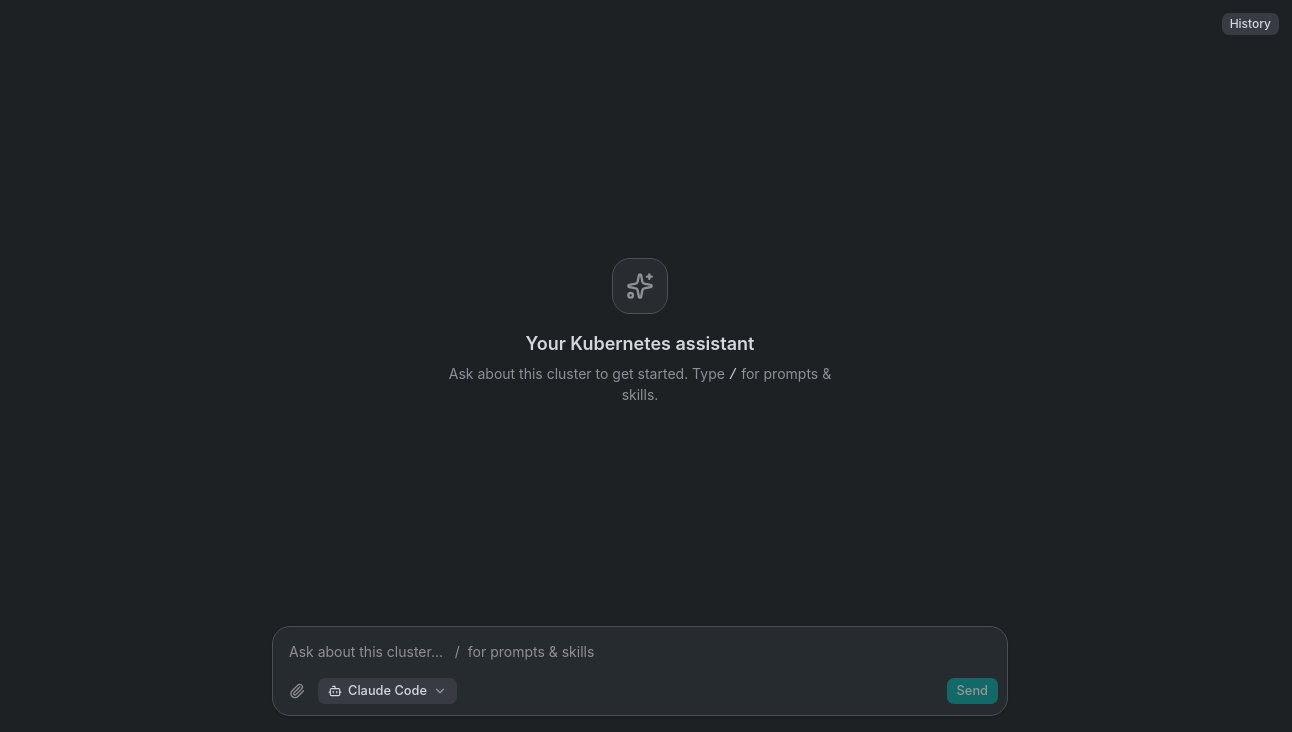
Test: AssistantConversation › never auto-selects a gated agent: Claude wins over an installed-but-gated Codex
The image size is (1292, 732).
Expected: the dropdown named "agent" shows "Claude", [317,677,458,705]
# The trigger shows the selected agent's label — Claude, never the gated Codex.
Type "hi" into the field with placeholder "Ask about this cluster… / for prompts & skills" at (640, 651), box [281,635,999,667]
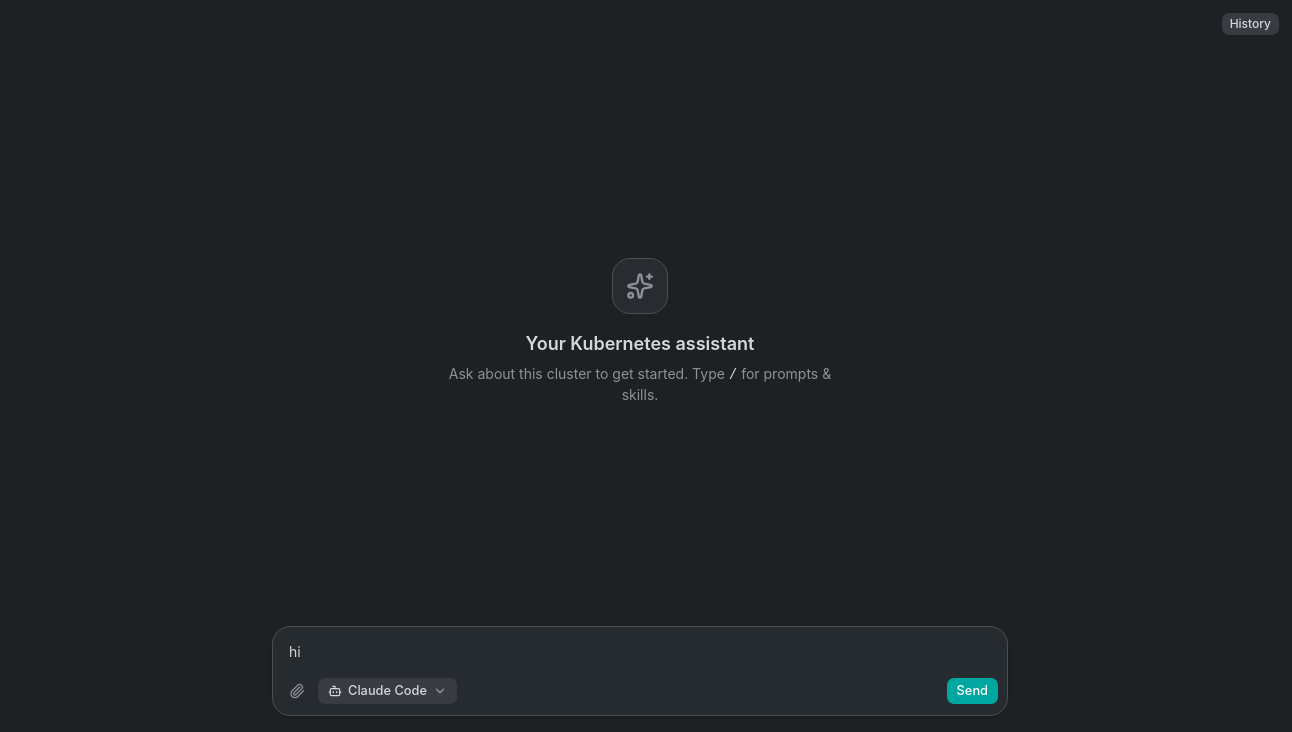
Expected: the button "Send" is enabled, [946,677,999,705]
